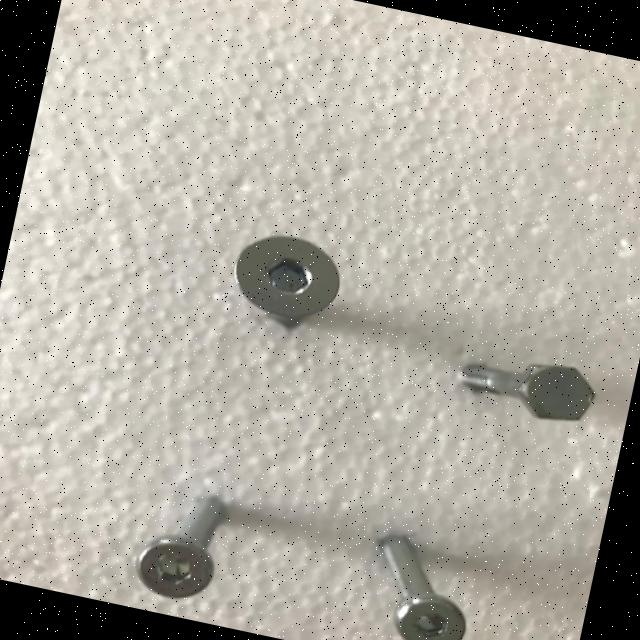Hex Socket Allen: (224, 225, 350, 328), (131, 530, 220, 606), (386, 589, 475, 640)
